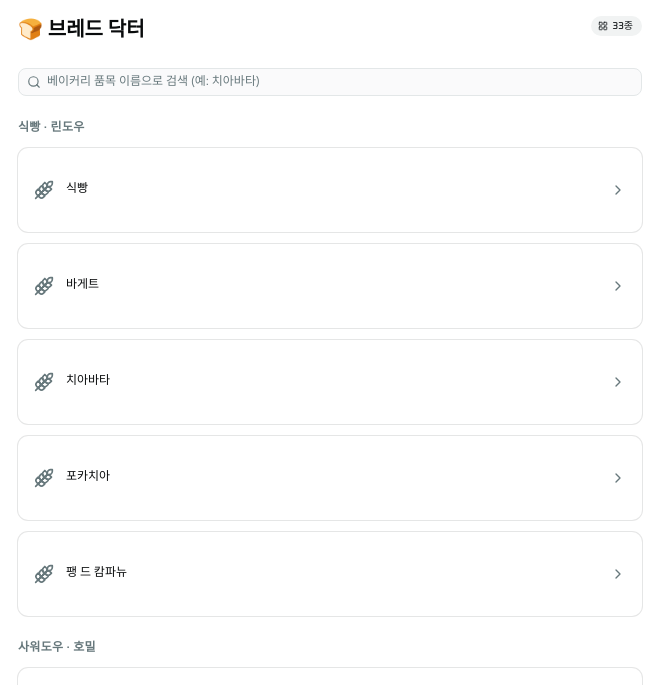
Scenario: BreadDoctor › Scenario 0-C: 증상 화면에서 빵 다시 고르기 → 빵 선택 화면으로 돌아가고 증상 선택이 초기화된다
Click the button "식빵" at (44, 190), box top-left (18, 164), bottom-right (642, 216)
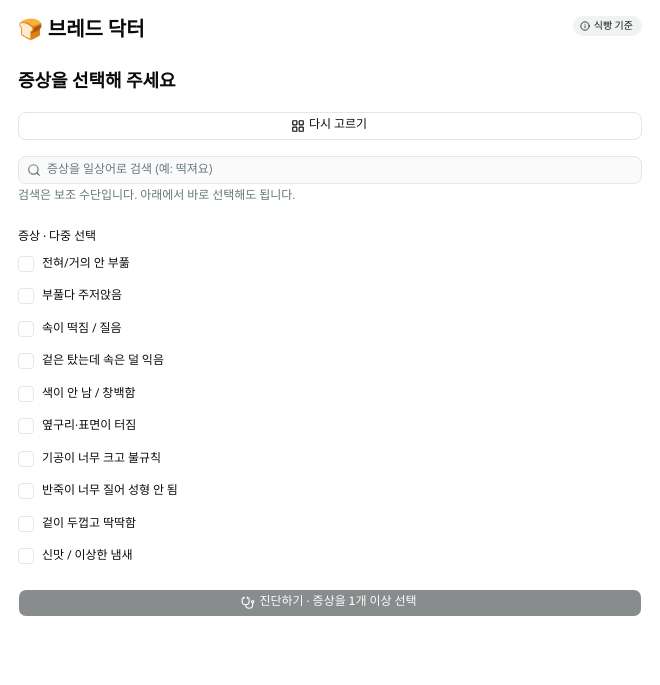
Click the checkbox named "전혀/거의 안 부풂" next to "전혀/거의 안 부풂" at (26, 264), box top-left (18, 256), bottom-right (34, 272)
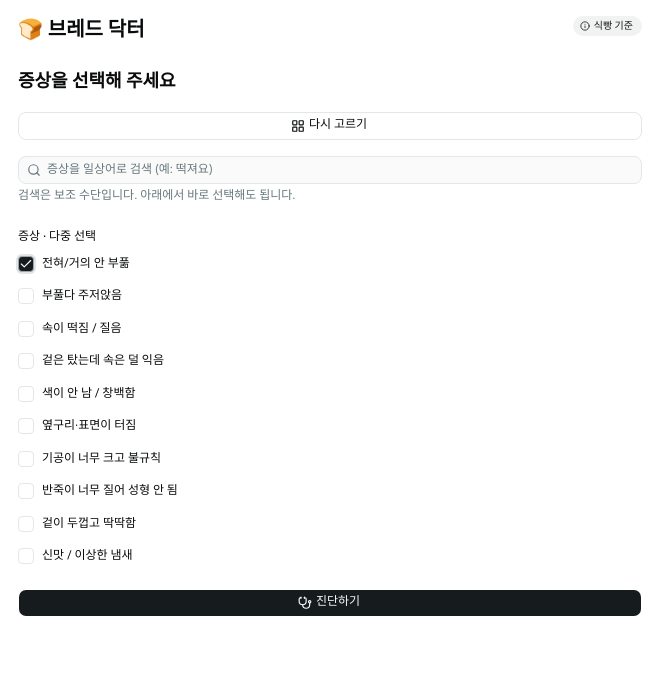
Click the button "다시 고르기" at (330, 126), box top-left (18, 112), bottom-right (642, 140)
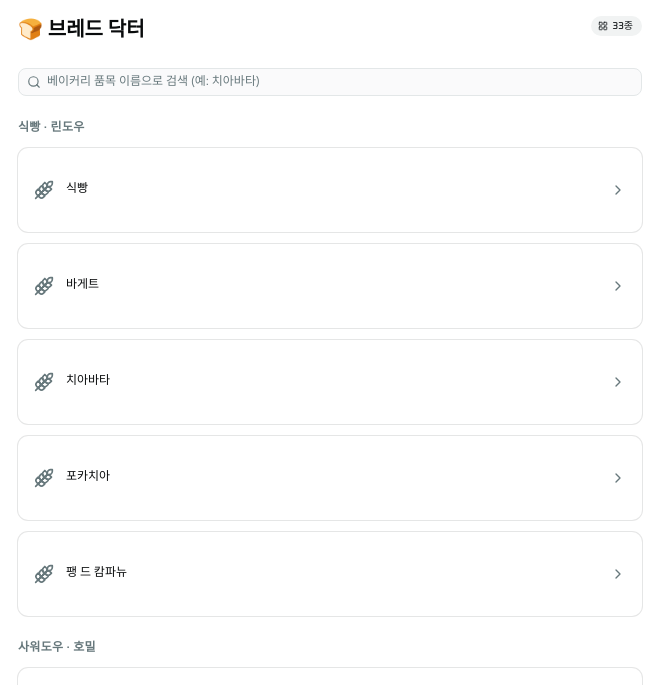
expect the heading "증상을 선택해 주세요" is gone: met
expect the button "식빵" is shown: met
Click the button "식빵" at (44, 190), box top-left (18, 164), bottom-right (642, 216)
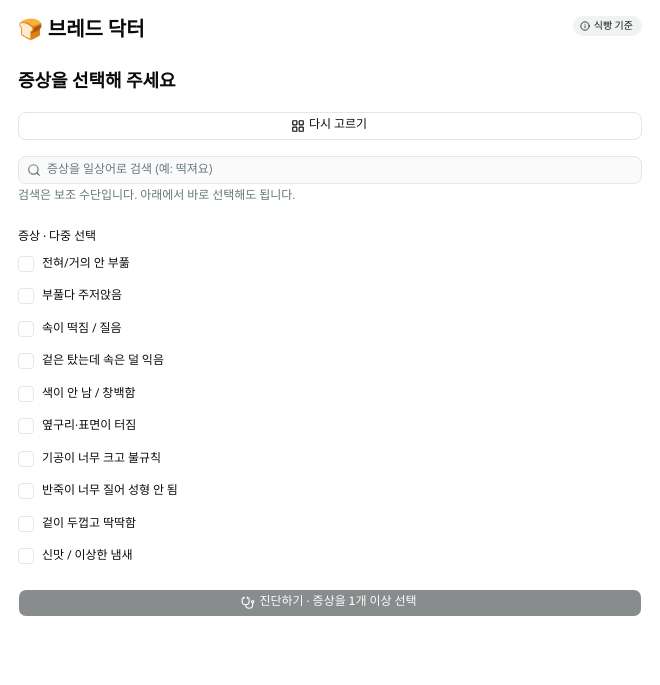
expect the checkbox named "전혀/거의 안 부풂" next to "전혀/거의 안 부풂" is not checked: met, box top-left (18, 256), bottom-right (34, 272)
